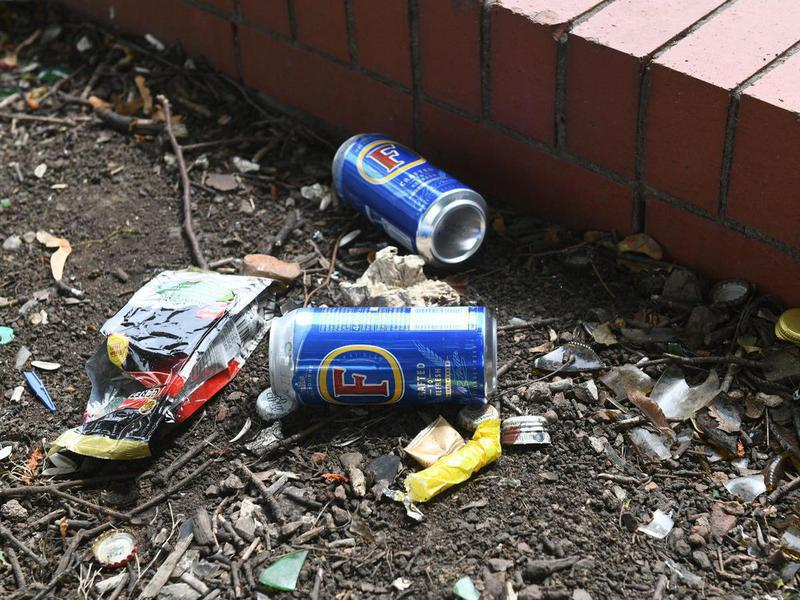can: (264, 299, 501, 412), (323, 131, 490, 262)
plastic: (48, 264, 276, 465)
